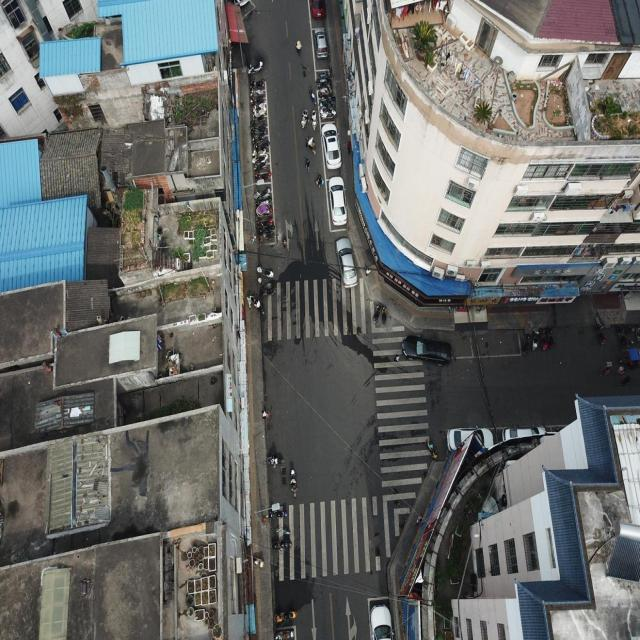p3rson: (304, 157, 311, 173), (246, 294, 254, 307), (620, 375, 630, 385), (295, 40, 301, 56), (316, 174, 324, 186), (613, 366, 625, 374), (600, 365, 608, 376), (392, 352, 400, 362), (282, 237, 288, 250), (346, 140, 351, 153), (254, 300, 262, 308), (261, 410, 269, 418)
